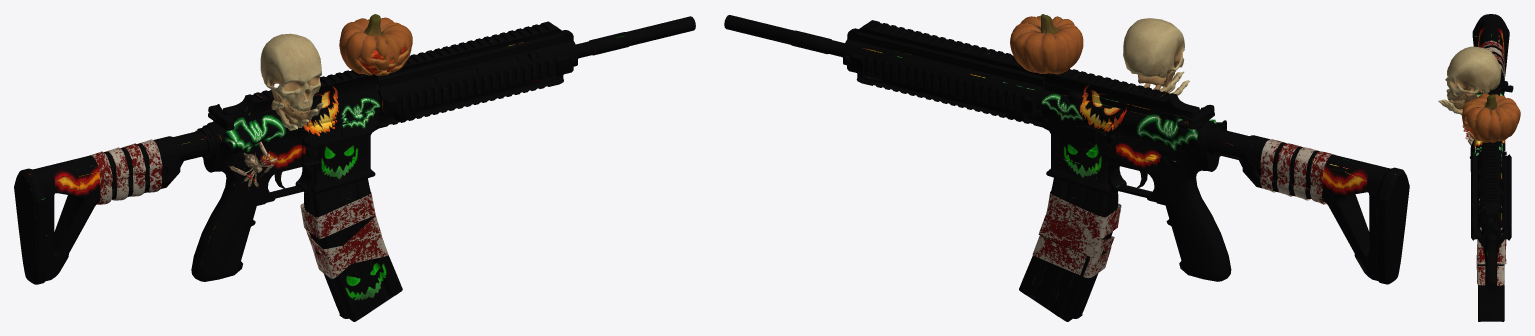
The model's file is WEAPON_NAVYCARBINE_HALLOWEEN.glb.
3 renders of one model, left to right at view 1: azimuth 30°, elevation 25°; view 2: azimuth 150°, elevation 25°; view 3: azimuth 270°, elevation 25°, orthographic. The views are drawn at different scales.
Parts seen in each view (by area): view 1: AAPClip.001; view 2: AAPClip.001; view 3: AAPClip.001.
Boxes of the visible parts, left/top/right/bottom form: AAPClip.001: left=14, top=14, right=695, bottom=321; AAPClip.001: left=724, top=14, right=1409, bottom=321; AAPClip.001: left=1438, top=14, right=1520, bottom=321.
Size of the model in its own units: 0.8073 by 0.3482 by 0.1072.
Materials: 9 (9 with a texture image).
